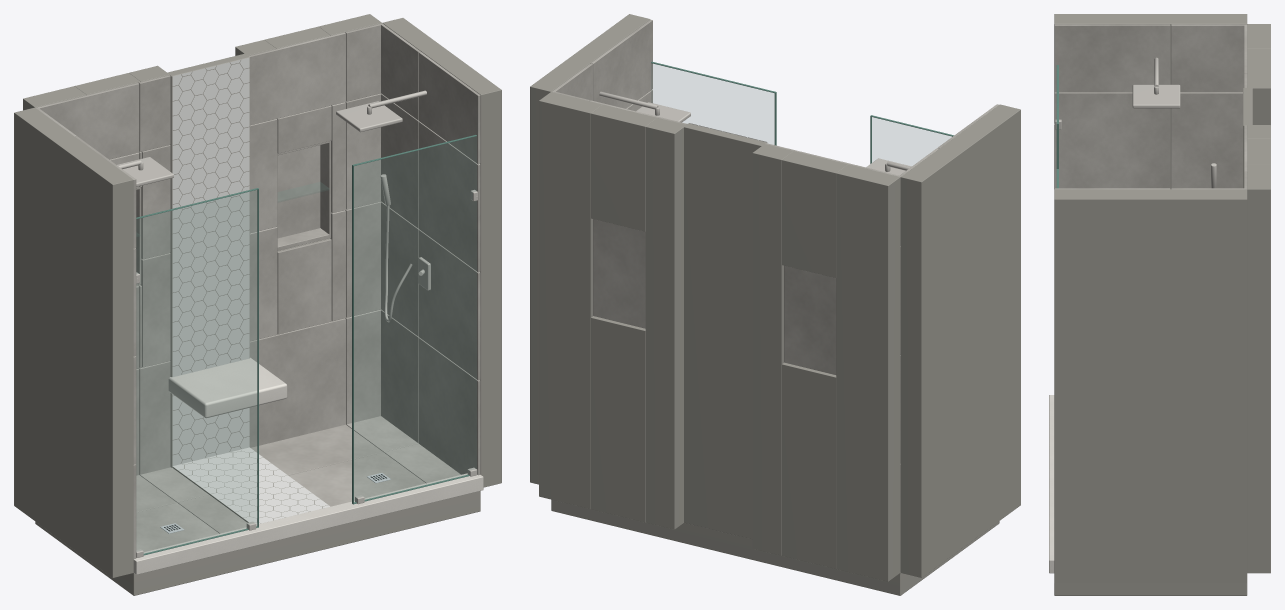
Rendered from green-lake-bathroom-remodel-dual-shower.glb.
3 renders of one model, left to right at view 1: azimuth 30°, elevation 25°; view 2: azimuth 150°, elevation 25°; view 3: azimuth 270°, elevation 25°, orthographic. The views are drawn at different scales.
Parts seen in each view (by area): view 1: Frameless glass panel, Twin niche wall · field tile, Left shower zone · wall core, Right shower zone · field tile, White hex mosaic · wall, Walk-in shower base · tile, Right shower zone · wall core, Walk-in shower base · foundation, Low shower curb, White hex mosaic · floor, Accent strip · grout, Floating bench · white surface (+8 smaller); view 2: Twin niche wall · wall core, Left shower zone · wall core, Accent strip · grout, Frameless glass panel, Right shower zone · wall core, Walk-in shower base · foundation, Recessed niche 2 · recess, Recessed niche 1 · recess, Right shower zone · field tile, Opposed square rain head, Left shower zone · field tile; view 3: Right shower zone · wall core, Left shower zone · field tile, Twin niche wall · wall core, Walk-in shower base · foundation, Left shower zone · wall core, Opposed square rain head, Low shower curb, Twin niche wall · field tile, Accent strip · grout, Right shower zone · field tile.
Part boxes in pixels (left/top/right/bottom): Frameless glass panel: left=136, top=137, right=476, bottom=554; Twin niche wall · field tile: left=36, top=23, right=381, bottom=475; Left shower zone · wall core: left=14, top=107, right=133, bottom=577; Right shower zone · field tile: left=380, top=23, right=480, bottom=475; White hex mosaic · wall: left=172, top=57, right=249, bottom=466; Walk-in shower base · tile: left=136, top=416, right=460, bottom=551; Right shower zone · wall core: left=382, top=18, right=501, bottom=487; Walk-in shower base · foundation: left=35, top=491, right=480, bottom=595; Low shower curb: left=133, top=473, right=483, bottom=574; White hex mosaic · floor: left=173, top=447, right=329, bottom=524; Accent strip · grout: left=167, top=53, right=249, bottom=467; Floating bench · white surface: left=168, top=357, right=287, bottom=418; Twin niche wall · wall core: left=539, top=92, right=900, bottom=581; Left shower zone · wall core: left=900, top=104, right=1020, bottom=577; Accent strip · grout: left=684, top=123, right=766, bottom=539; Frameless glass panel: left=651, top=63, right=950, bottom=165; Right shower zone · wall core: left=530, top=14, right=650, bottom=484; Walk-in shower base · foundation: left=551, top=499, right=999, bottom=595; Recessed niche 2 · recess: left=593, top=219, right=645, bottom=328; Recessed niche 1 · recess: left=784, top=265, right=836, bottom=374; Right shower zone · field tile: left=552, top=19, right=652, bottom=111; Opposed square rain head: left=636, top=102, right=911, bottom=175; Left shower zone · field tile: left=899, top=104, right=998, bottom=571; Right shower zone · wall core: left=1054, top=189, right=1247, bottom=583; Left shower zone · field tile: left=1054, top=24, right=1246, bottom=188; Twin niche wall · wall core: left=1247, top=24, right=1270, bottom=573; Walk-in shower base · foundation: left=1054, top=583, right=1247, bottom=595; Left shower zone · wall core: left=1054, top=14, right=1247, bottom=189; Opposed square rain head: left=1132, top=84, right=1180, bottom=108; Low shower curb: left=1049, top=395, right=1054, bottom=573; Twin niche wall · field tile: left=1244, top=24, right=1247, bottom=189; Accent strip · grout: left=1243, top=88, right=1252, bottom=188; Right shower zone · field tile: left=1055, top=188, right=1246, bottom=189.
Bounding box in the file's own units: 2.3 × 2.35 × 1.16.
Materials: 10 (2 with a texture image).
